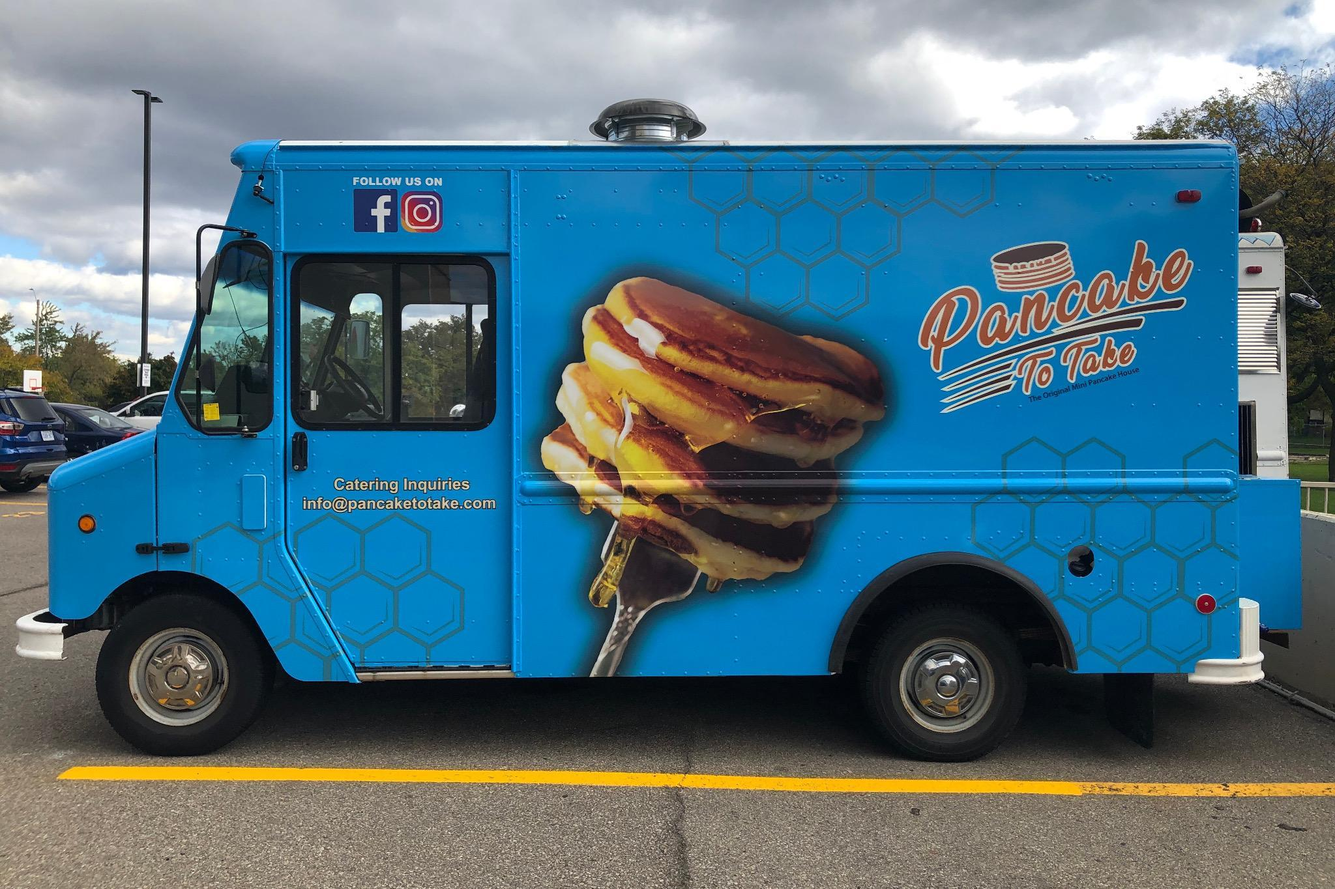Bus: (26, 138, 1317, 767), (33, 141, 1269, 766)
